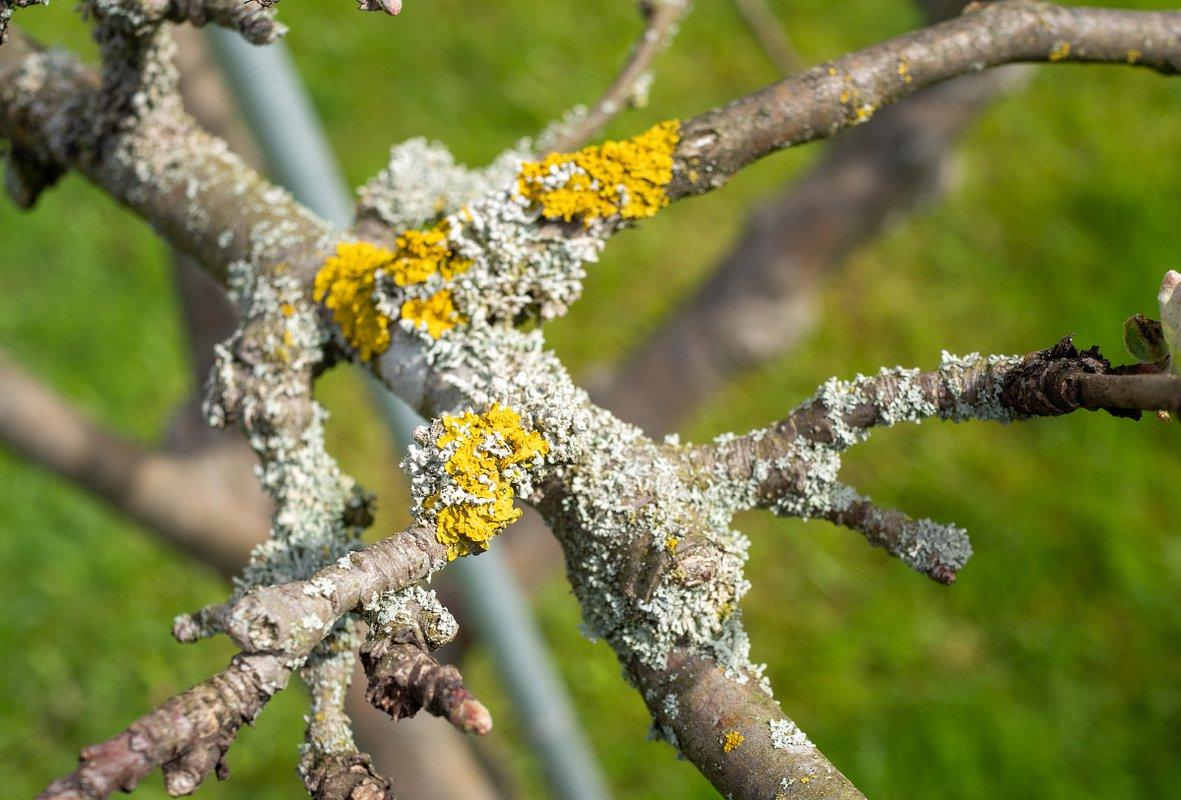lichen: (401, 117, 774, 684), (206, 264, 369, 600), (436, 404, 548, 559), (518, 121, 678, 226), (314, 241, 391, 359)
